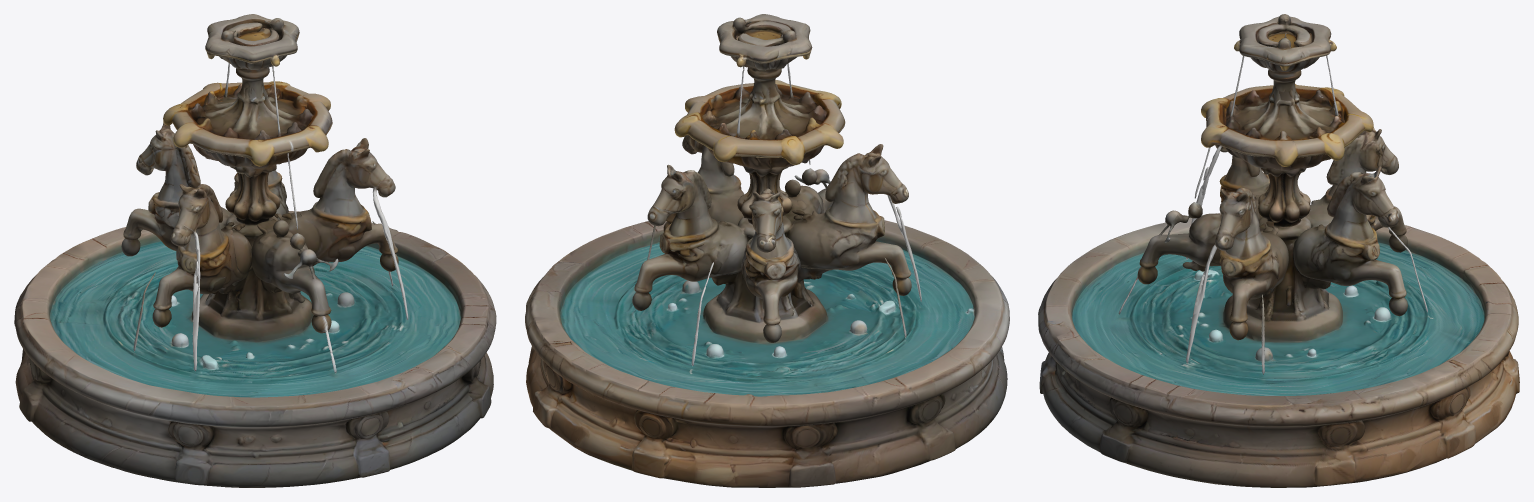
The model's file is plaza-fountain-horse.glb.
3 views of the same model, side by side, from view 1: azimuth 30°, elevation 25°; view 2: azimuth 150°, elevation 25°; view 3: azimuth 270°, elevation 25° (orthographic).
Visible parts, largest first — view 1: tripo_node_78cf9498-d200-4d1f-b120-d876d6eefedd; view 2: tripo_node_78cf9498-d200-4d1f-b120-d876d6eefedd; view 3: tripo_node_78cf9498-d200-4d1f-b120-d876d6eefedd.
Part boxes in pixels (box(x1,y1,x2,y2)): tripo_node_78cf9498-d200-4d1f-b120-d876d6eefedd: box(14, 14, 496, 487); tripo_node_78cf9498-d200-4d1f-b120-d876d6eefedd: box(525, 14, 1009, 487); tripo_node_78cf9498-d200-4d1f-b120-d876d6eefedd: box(1038, 14, 1519, 487).
Size of the model in its own units: 5.5 by 5 by 5.52.
Materials: 1 (1 with a texture image).
